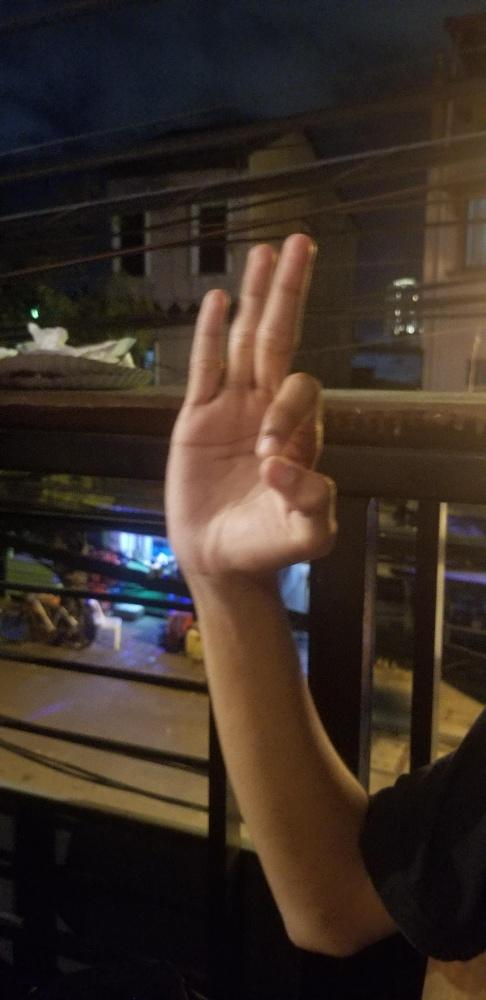f: (164, 232, 334, 575)
